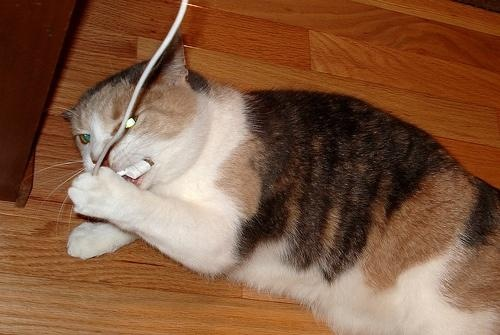cat: (21, 30, 500, 335)
